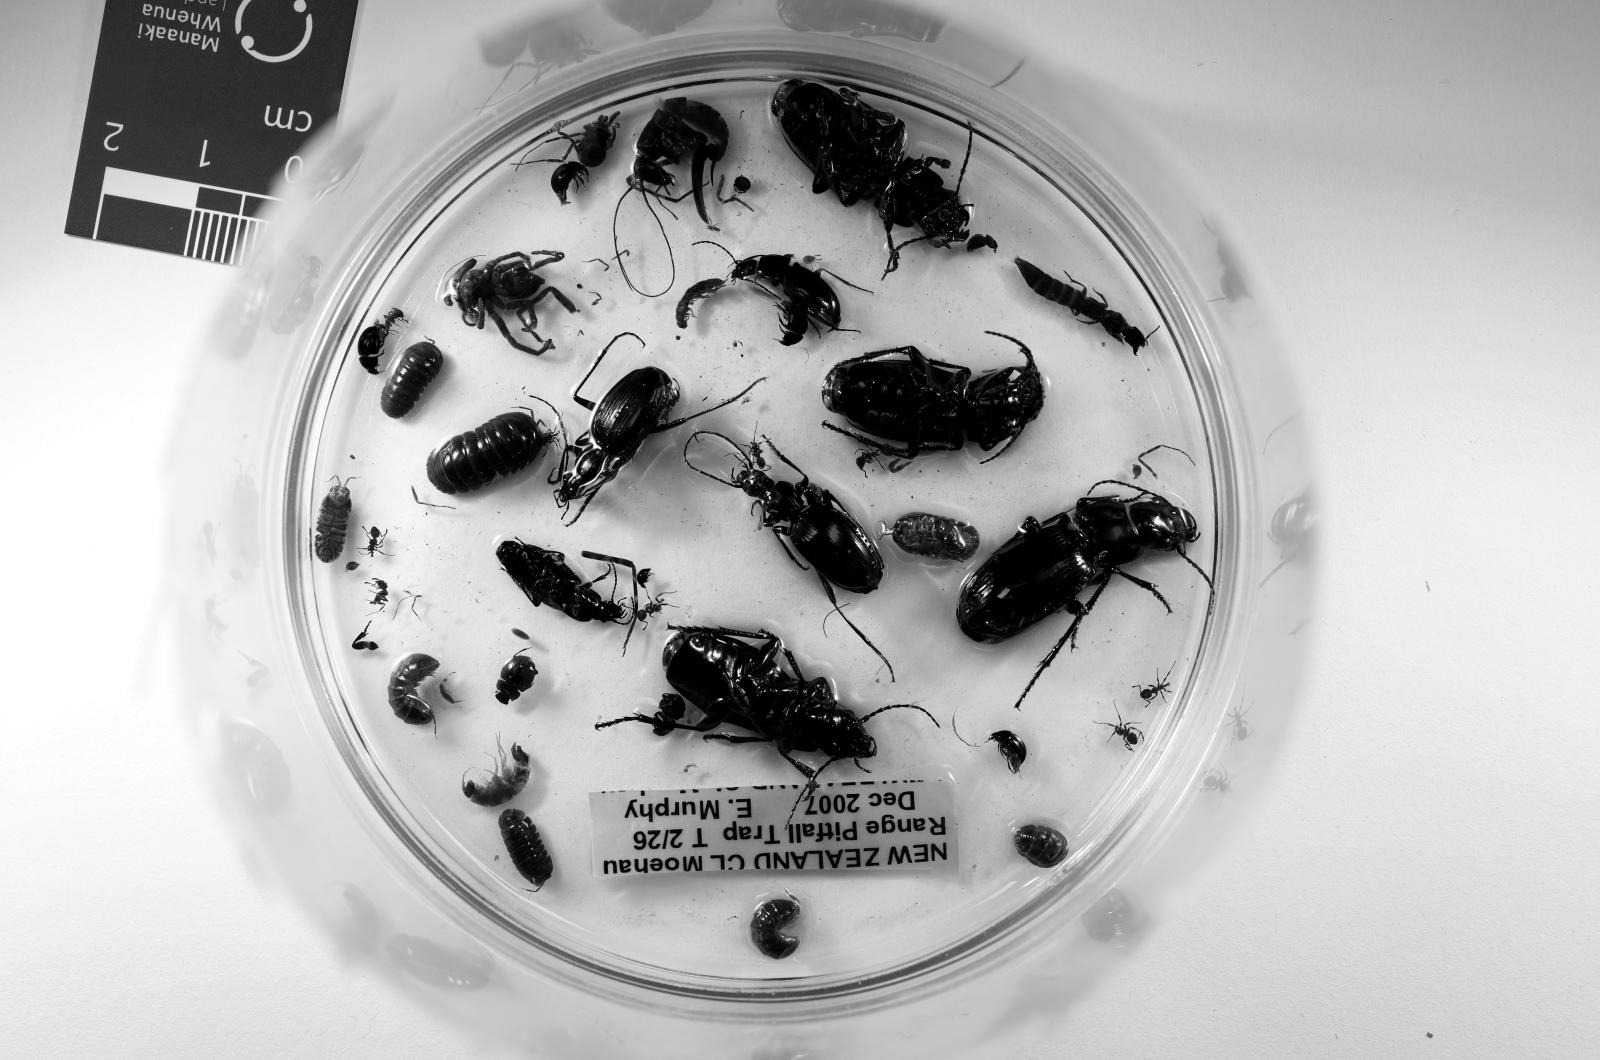amphipoda: (462, 736, 531, 807)
araneae: (441, 252, 575, 354)
carabidae: (957, 485, 1200, 707), (550, 332, 753, 525), (772, 80, 974, 273), (662, 627, 875, 783), (700, 435, 885, 608), (822, 342, 1044, 459), (497, 541, 626, 621), (731, 254, 841, 329)
coleoptera: (1016, 258, 1147, 354), (497, 652, 538, 705), (550, 161, 588, 205), (991, 730, 1028, 774), (356, 327, 384, 376), (653, 692, 685, 736), (778, 302, 809, 344), (966, 233, 997, 252), (637, 568, 653, 587)
formicidae: (1103, 717, 1144, 751), (1134, 674, 1172, 705), (375, 308, 403, 342), (637, 593, 666, 625), (365, 528, 388, 556), (371, 577, 388, 608)
isopoda: (428, 413, 556, 493), (381, 342, 443, 419), (885, 512, 982, 562), (497, 807, 553, 888), (388, 652, 438, 726), (750, 898, 799, 959), (316, 481, 354, 562), (1012, 823, 1069, 870), (675, 279, 725, 329)
opiliones: (553, 111, 618, 168)
orthoptera: (628, 96, 728, 230)
